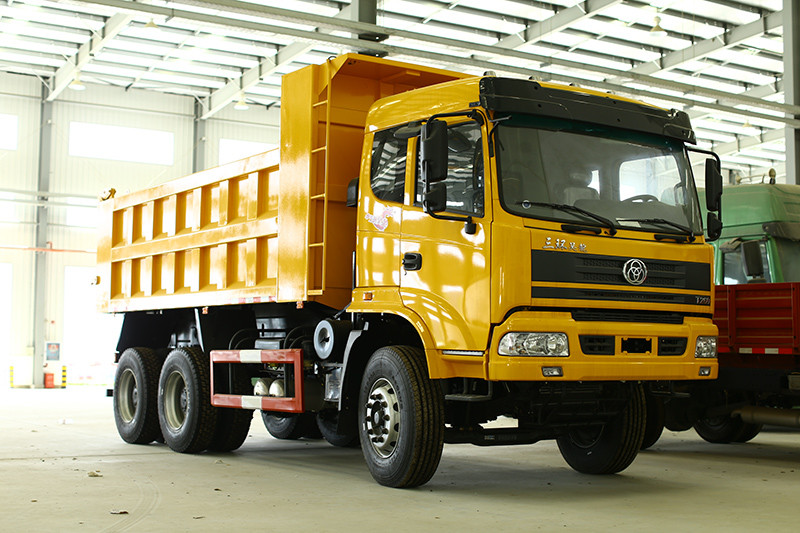truck: (96, 51, 725, 489)
